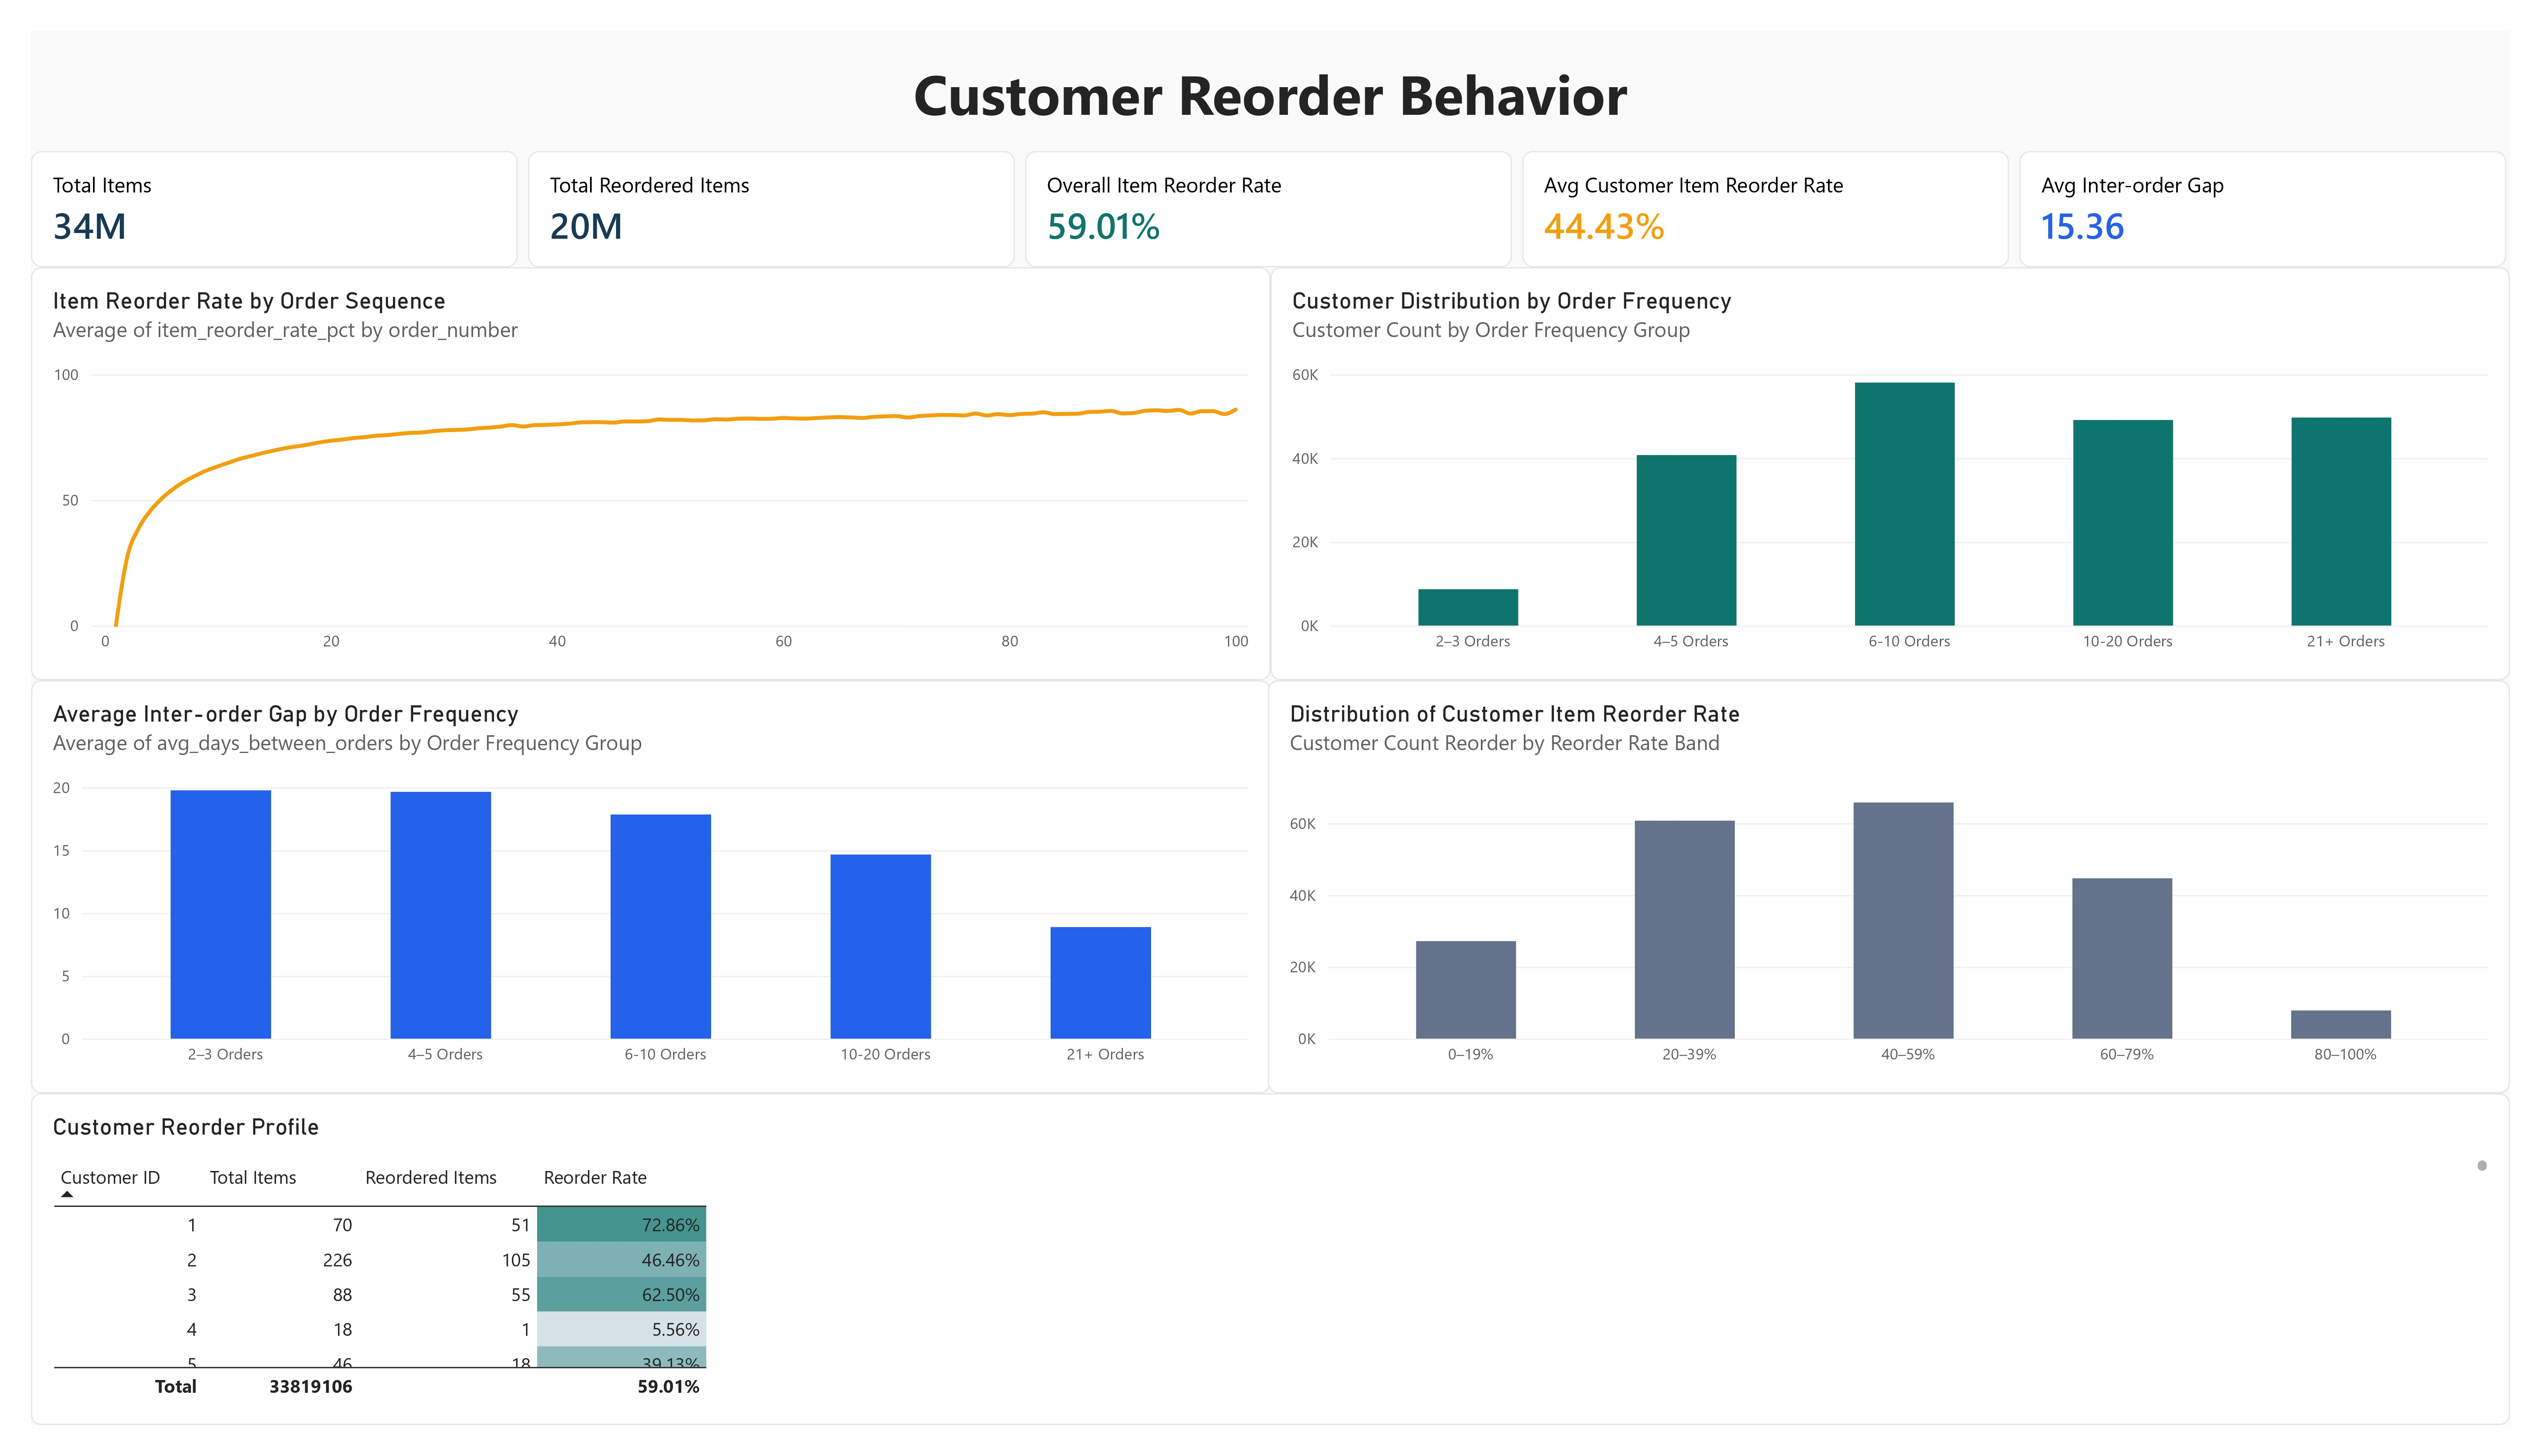

The dashboard page shown, as its layout file describes it:
{"tool":"powerbi","page":{"name":"Customer Reorder Behavior","canvas":[1920,1080],"ordinal":1},"visuals":[{"type":"cardVisual","fields":{"Data":["AislePerformance.Total Items","AislePerformance.Total Reordered Items","AislePerformance.Overall Item Reorder Rate","AislePerformance.Avg Customer Item Reorder Rate","AislePerformance.Avg Inter-order Gap"]},"box":[0,92.5,1920,90],"z":0},{"type":"lineChart","title":"Item Reorder Rate by Order Sequence","fields":{"Category":["OrderSequence.order_number"],"Y":["Avg(OrderSequence.item_reorder_rate_pct)"]},"box":[0,182.5,960,320],"z":1000},{"type":"clusteredColumnChart","title":"Customer Distribution by Order Frequency","fields":{"Category":["CustomerBehavior.Order Frequency Group"],"Y":["AislePerformance.Customer Count"]},"box":[960,182.5,960,320],"z":2000},{"type":"clusteredColumnChart","title":"Average Inter-order Gap by Order Frequency","fields":{"Category":["CustomerBehavior.Order Frequency Group"],"Y":["Avg(CustomerBehavior.avg_days_between_orders)"]},"box":[0,502.5,960,320],"z":3000},{"type":"columnChart","title":"Distribution of Customer Item Reorder Rate","fields":{"Category":["CustomerReorder.Reorder Rate Band"],"Y":["AislePerformance.Customer Count Reorder"]},"box":[957.5,502.5,962.5,320],"z":4000},{"type":"tableEx","title":"Customer Reorder Profile","fields":{"Values":["CustomerReorder.user_id","Sum(CustomerReorder.total_items)","CustomerReorder.reordered_items","AislePerformance.Customer Reorder Rate"]},"box":[0,822.5,1920,257.5],"z":5000},{"type":"textbox","box":[0,0,1920,92.5],"z":6000}]}

Visuals, with their boxes on the page's 1920x1080 design canvas (x1, y1, x2, y2). These are canvas units, not pixel positions in the 2541x1456 screenshot, which may show the page scaled, cropped or inside an application window:
cardVisual - AislePerformance.Total Items x AislePerformance.Total Reordered Items: 0,92,1920,182
"Item Reorder Rate by Order Sequence" lineChart: 0,182,960,502
"Customer Distribution by Order Frequency" clusteredColumnChart: 960,182,1920,502
"Average Inter-order Gap by Order Frequency" clusteredColumnChart: 0,502,960,822
"Distribution of Customer Item Reorder Rate" columnChart: 958,502,1920,822
"Customer Reorder Profile" tableEx: 0,822,1920,1080
textbox: 0,0,1920,92
